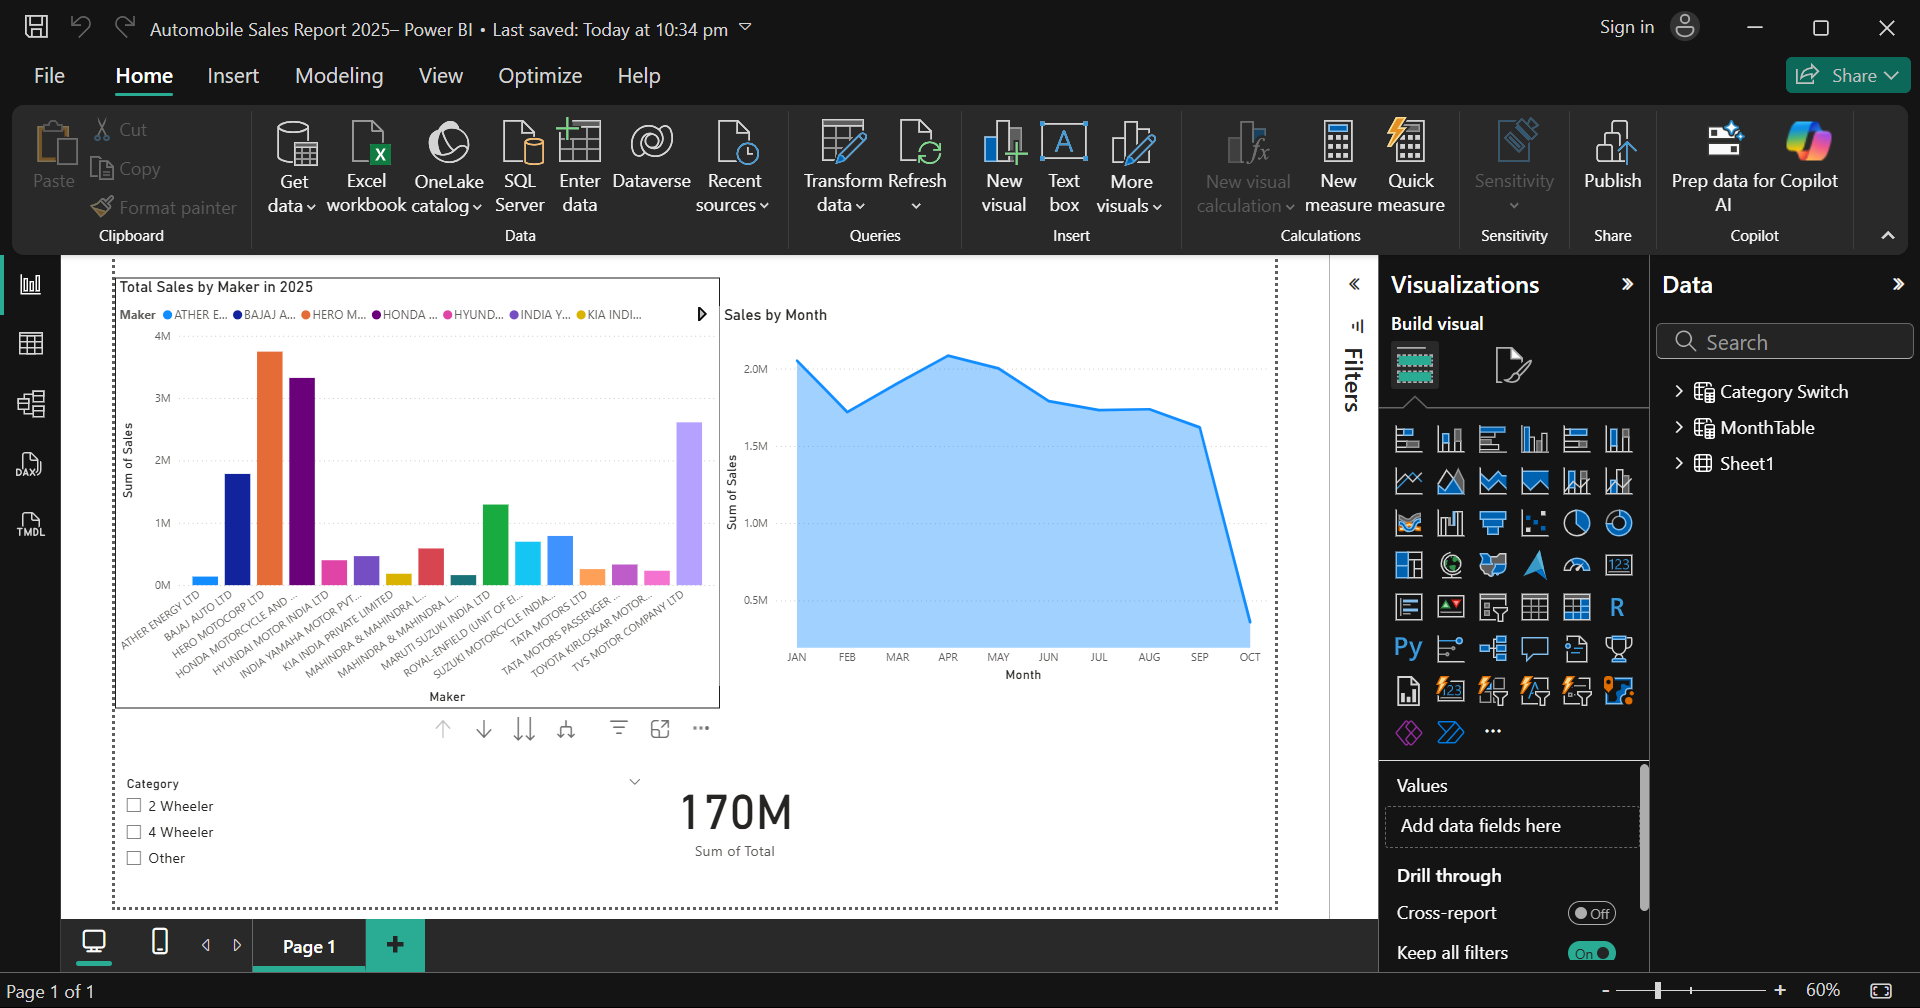

The dashboard page shown, as its layout file describes it:
{"tool":"powerbi","page":{"name":"Page 1","canvas":[1280,720],"ordinal":0},"visuals":[{"type":"clusteredColumnChart","fields":{"Category":["Sheet1.Maker","Sheet1.Month"],"Y":["Sum(Sheet1.Sales)"]},"box":[146.1,13.5,587.6,331.5],"z":0},{"type":"lineChart","fields":{"Y":["Sum(Sheet1.Sales)"],"Category":["MonthTable.Month"]},"box":[146.7,392.2,586.7,327.8],"z":1000}]}

Visuals, with their boxes on the page's 1280x720 design canvas (x1, y1, x2, y2). These are canvas units, not pixel positions in the 1920x1008 screenshot, which may show the page scaled, cropped or inside an application window:
clusteredColumnChart - Sheet1.Maker x Sheet1.Month: crop(146, 14, 734, 345)
lineChart - Sum(Sheet1.Sales) x MonthTable.Month: crop(147, 392, 733, 720)
